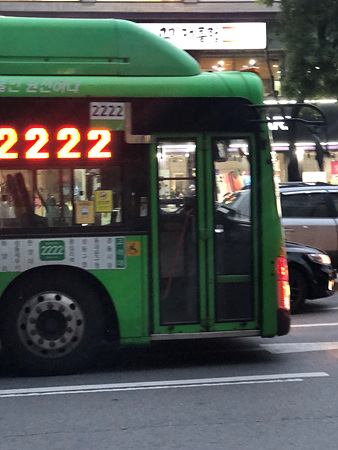entrance: (149, 132, 263, 338)
